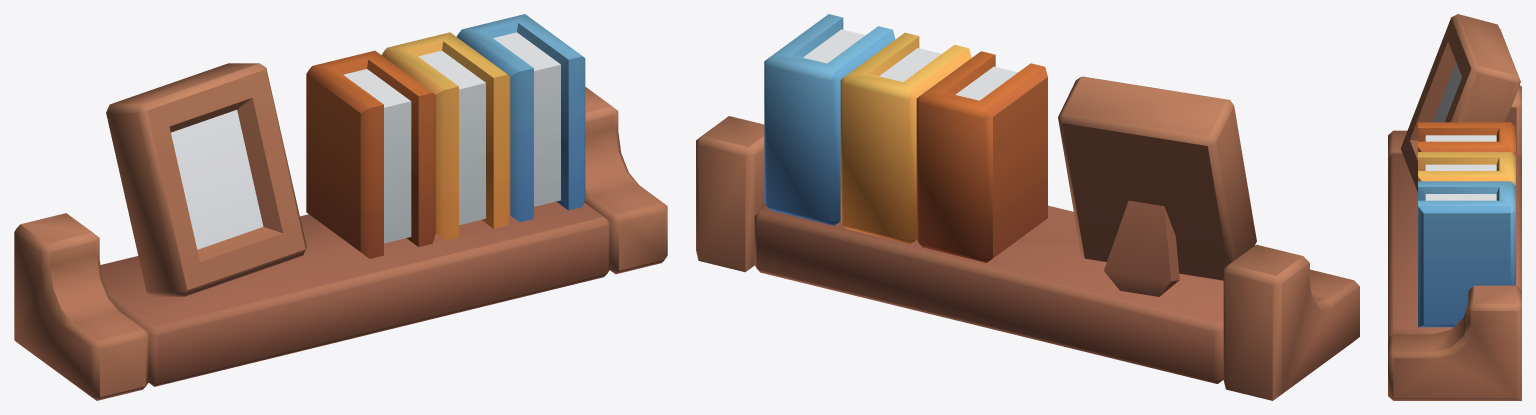
Rendered from shelf_B_large_decorated.glb.
3 views of the same model, side by side, from view 1: azimuth 30°, elevation 25°; view 2: azimuth 150°, elevation 25°; view 3: azimuth 270°, elevation 25° (orthographic). The views are drawn at different scales.
Visible parts, largest first — view 1: shelf_B_large_decorated; view 2: shelf_B_large_decorated; view 3: shelf_B_large_decorated.
Part boxes in pixels (x1=…): shelf_B_large_decorated: x1=14, y1=14, x2=667, y2=400; shelf_B_large_decorated: x1=696, y1=14, x2=1359, y2=400; shelf_B_large_decorated: x1=1388, y1=14, x2=1521, y2=400.
Size of the model in its own units: 2 by 0.8175 by 0.5001.
1 material, 1 textured.
